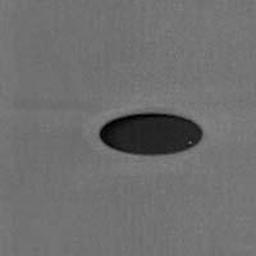Punching: (99, 113, 202, 157)
